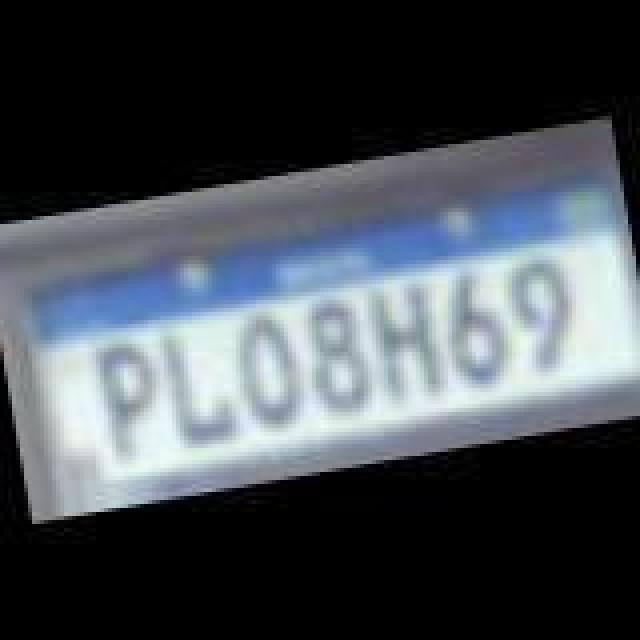6: (436, 258, 516, 382)
8: (298, 294, 374, 418)
9: (500, 250, 580, 374)
H: (368, 278, 448, 402)
L: (156, 320, 244, 448)
O: (226, 306, 310, 430)
P: (94, 338, 170, 462)
